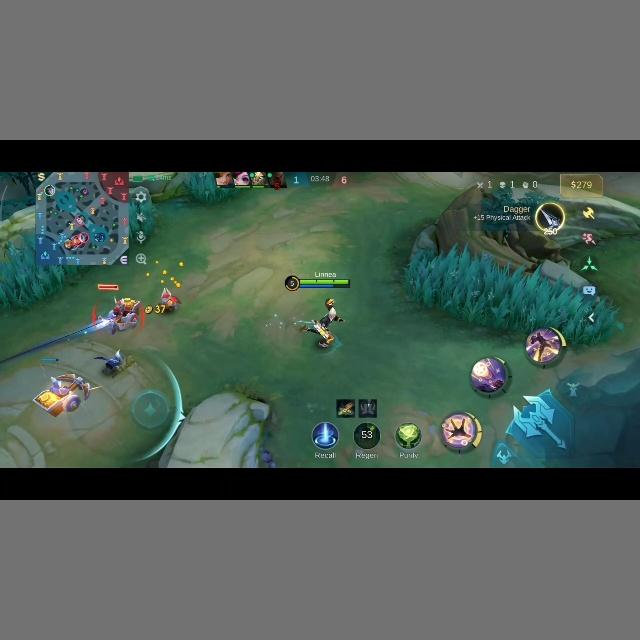hp_enemy: (95, 297, 141, 334), (97, 283, 119, 291)
hp_self: (295, 278, 349, 286), (40, 358, 58, 362)
minion_ally: (32, 373, 96, 415), (94, 348, 127, 376)
minion_enemy: (95, 297, 141, 334), (159, 286, 181, 312)
